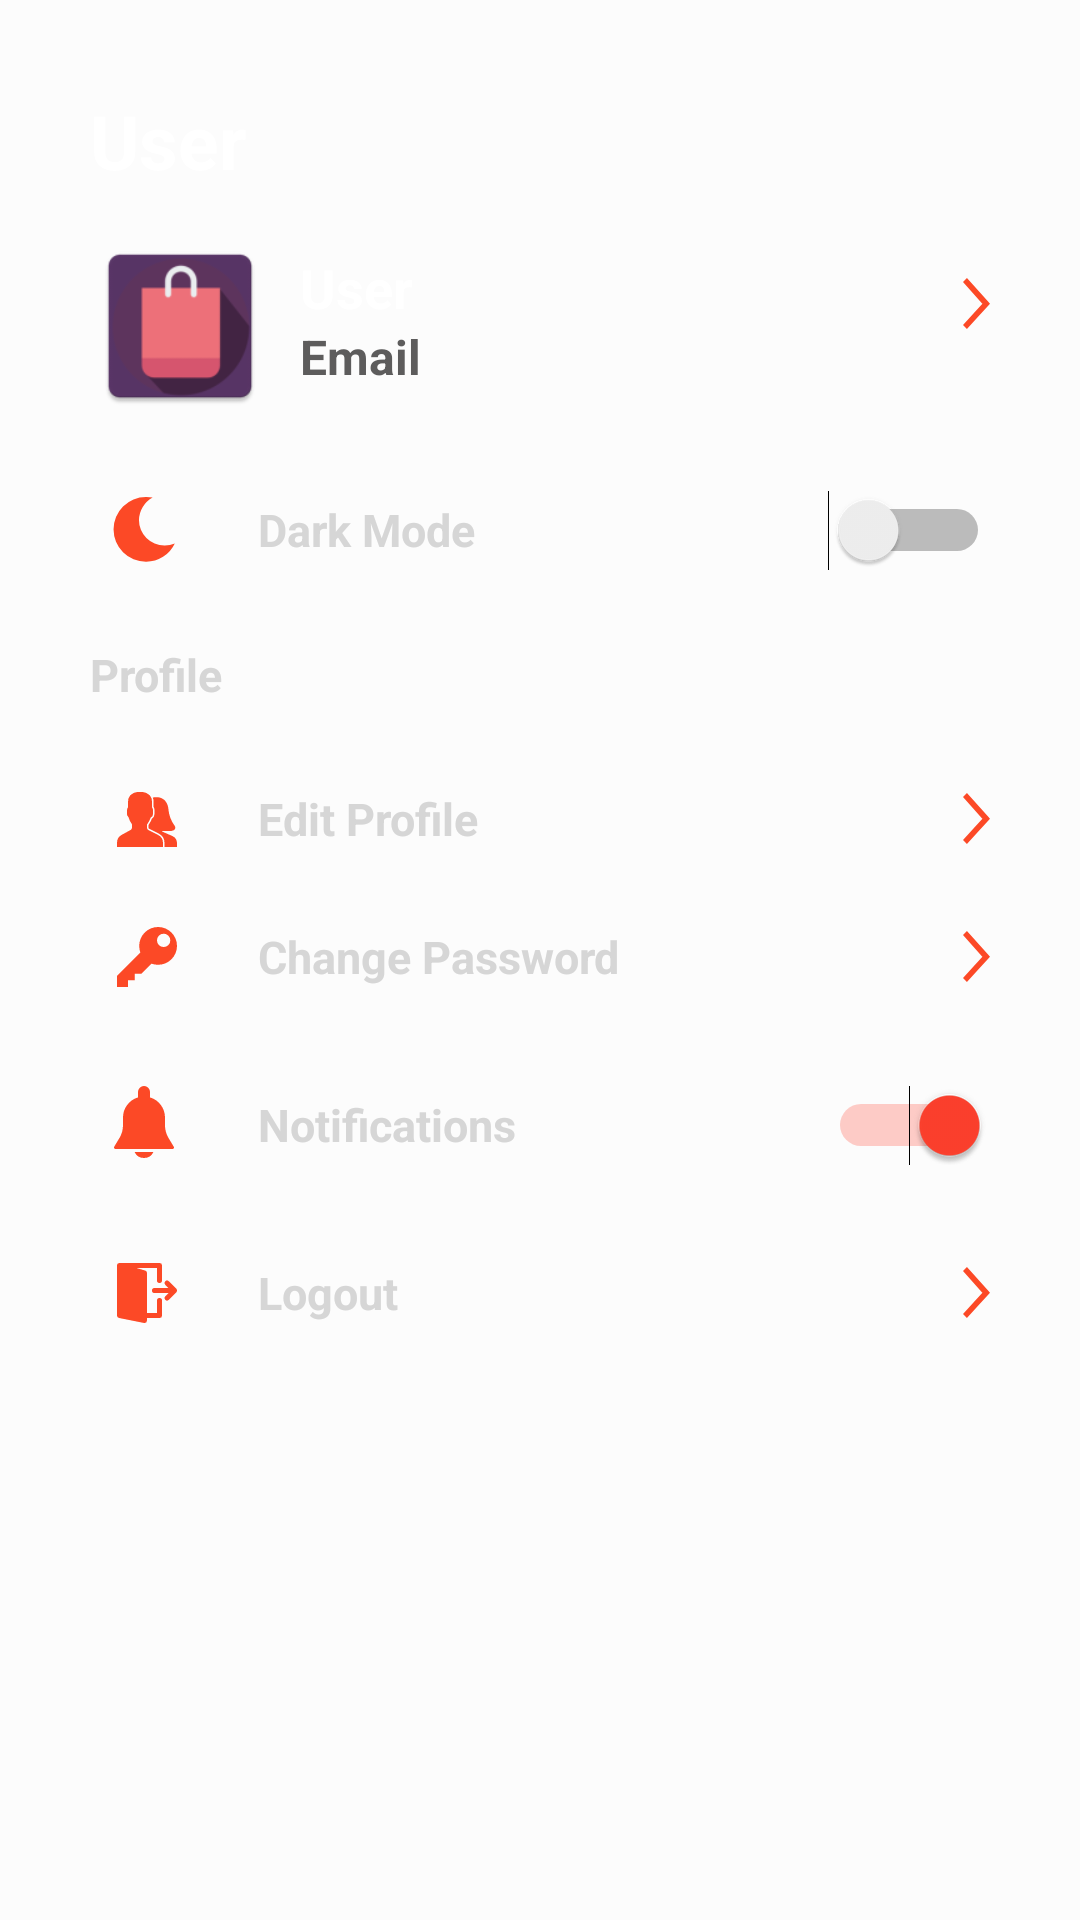

Icons on this 1080x1920 Android screen, each with the point to tap as (x=x, y=y):
more: (x=976, y=303)
